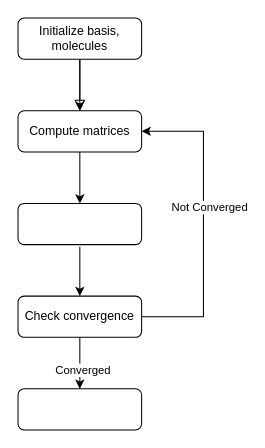
This 265x448 diagram has some shape labels left out. The centre of each missing label's shape, as x and y in pixels:
Compute HF energy and write results: pixel 79 409
Diagonalize Fock and Density matrices: pixel 79 223
